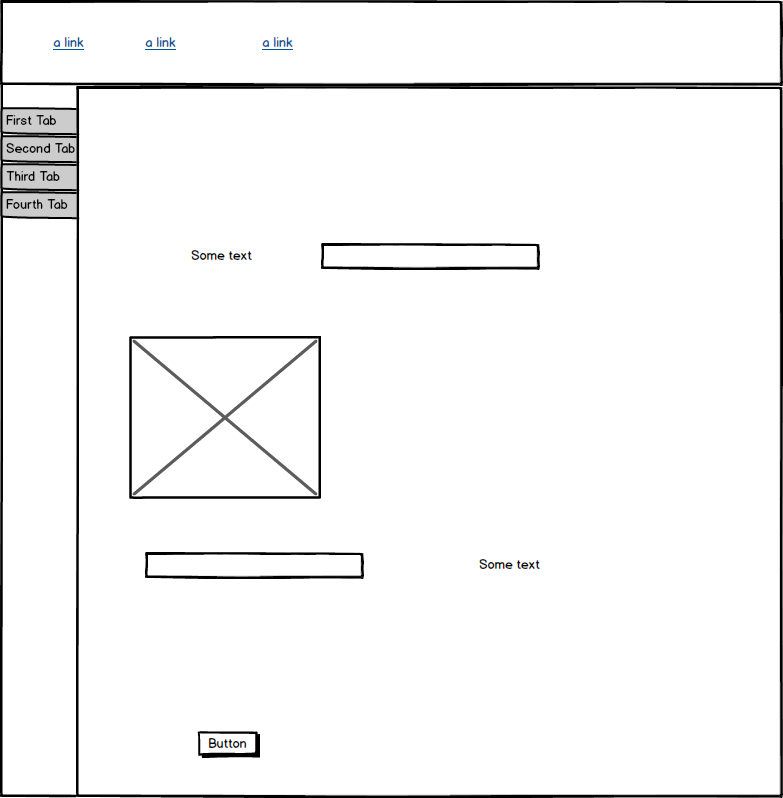button: (192, 725, 270, 765)
image: (125, 333, 329, 501)
input: (317, 236, 551, 274), (140, 549, 373, 585)
label: (187, 247, 261, 267), (475, 554, 545, 573)
navlink: (257, 28, 305, 57), (139, 33, 184, 56), (45, 35, 88, 50)
sidebar: (1, 99, 90, 227)
